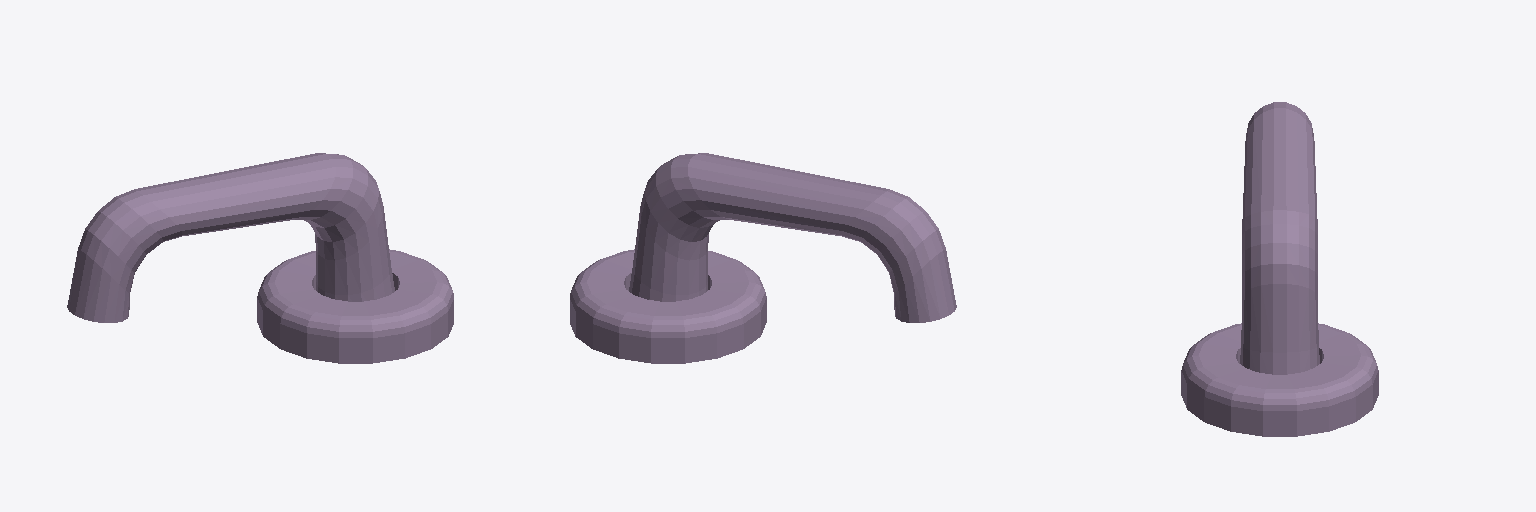
3 views of the same model, side by side, from view 1: azimuth 30°, elevation 25°; view 2: azimuth 150°, elevation 25°; view 3: azimuth 270°, elevation 25° (orthographic).
Parts seen in each view (by area): view 1: submesh; view 2: submesh; view 3: submesh.
Part boxes in pixels (left/top/right/bottom): submesh: left=67, top=153, right=453, bottom=363; submesh: left=570, top=153, right=956, bottom=363; submesh: left=1181, top=102, right=1378, bottom=436.
Bounding box in the file's own units: 0.1337 × 0.0632 × 0.0621.
1 materials, 1 textured.